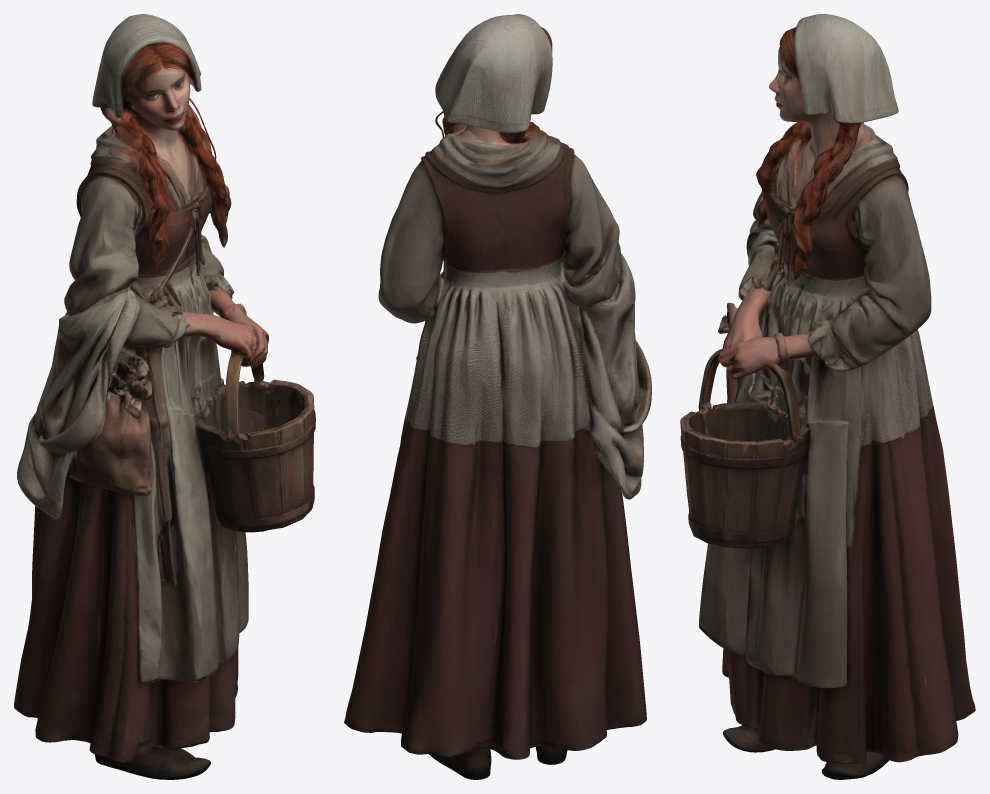
Rendered from villager__peasant-maiden.glb.
3 views of the same model, side by side, from view 1: azimuth 30°, elevation 25°; view 2: azimuth 150°, elevation 25°; view 3: azimuth 270°, elevation 25° (orthographic).
Size of the model in its own units: 0.663 by 1.9 by 0.6967.
Materials: 1 (1 with a texture image).
